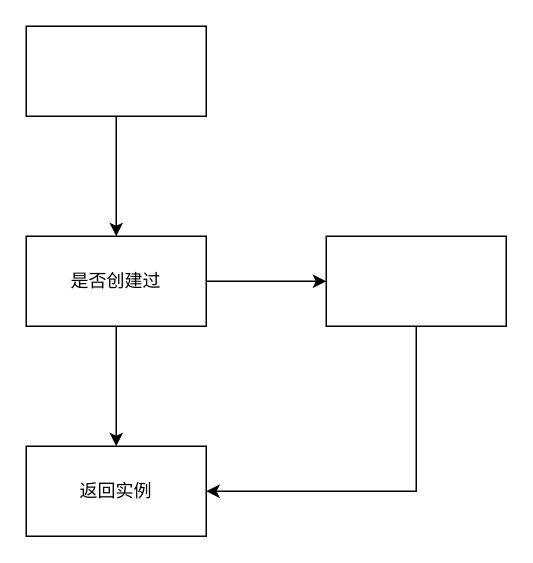
This 533x563 diagram has some shape labels left out. Each missing label, with the box of its shape:
创建实例: (325, 235, 506, 326)
获取实例: (25, 25, 206, 116)
